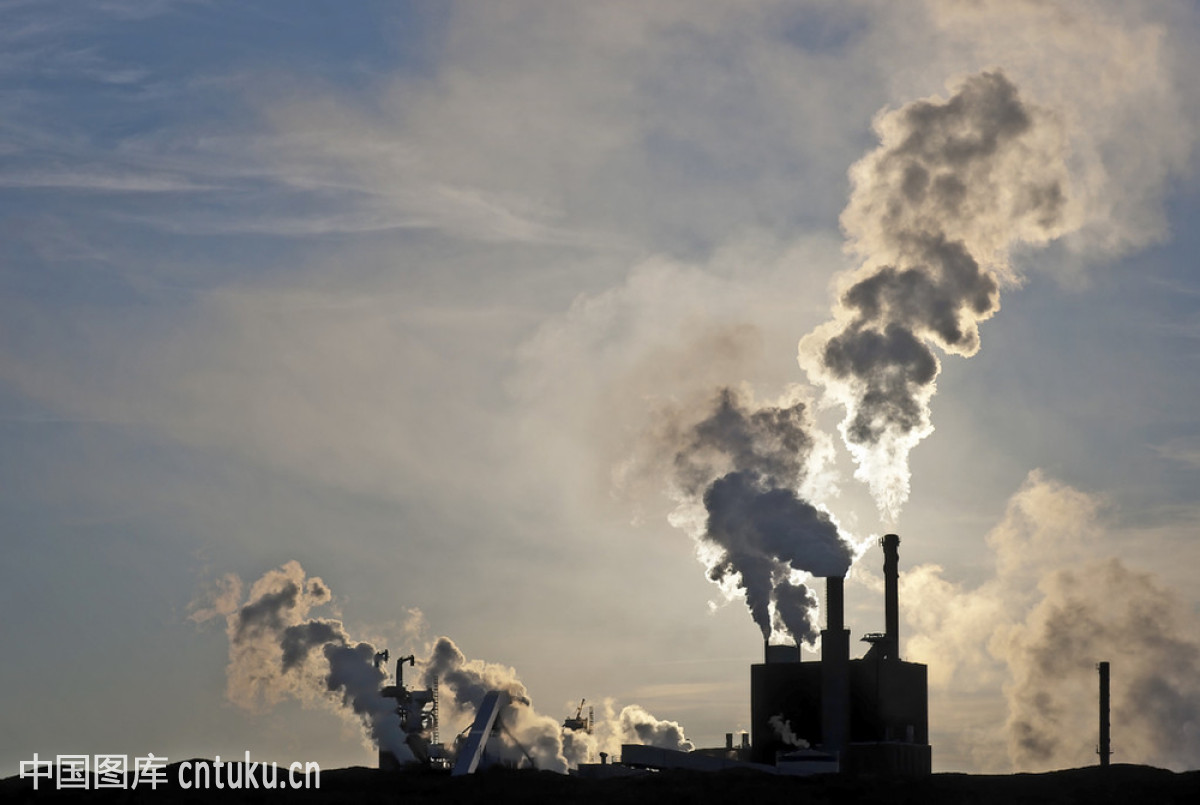dust: (819, 70, 1053, 558), (664, 365, 859, 636), (229, 566, 437, 769)
